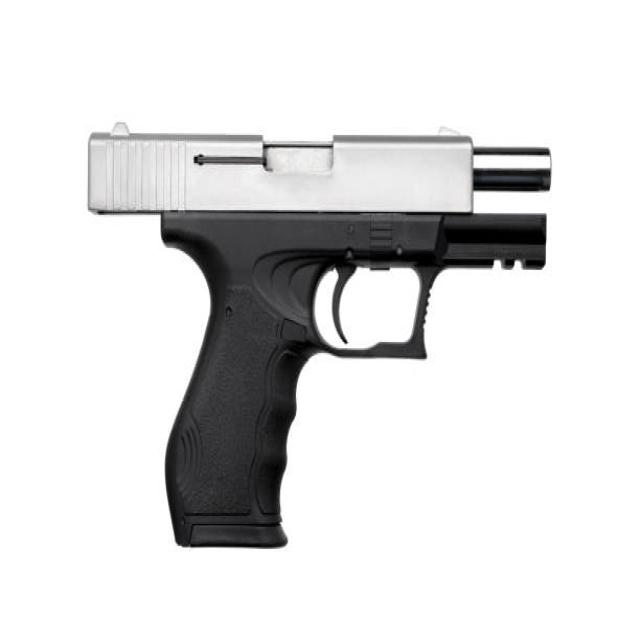pistol: (83, 114, 566, 551)
